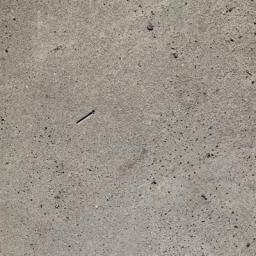FOD: (73, 109, 99, 127)
